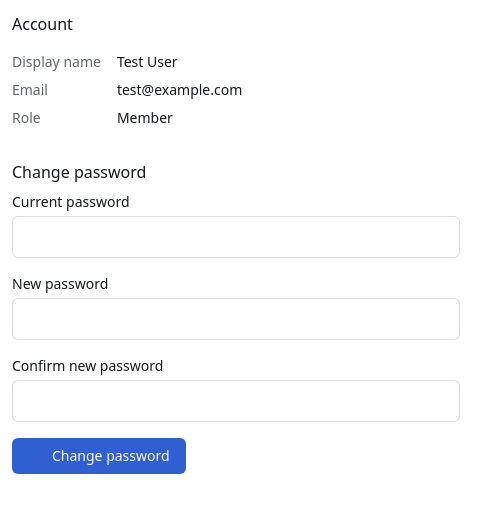
Test case: blocks submit client-side when the confirmation does not match
expect the text "Test User" is shown: met, box [117,52,178,71]
In the password field labelled "Current password": x=236, y=237 [12,216,460,258], type "old-password-123"
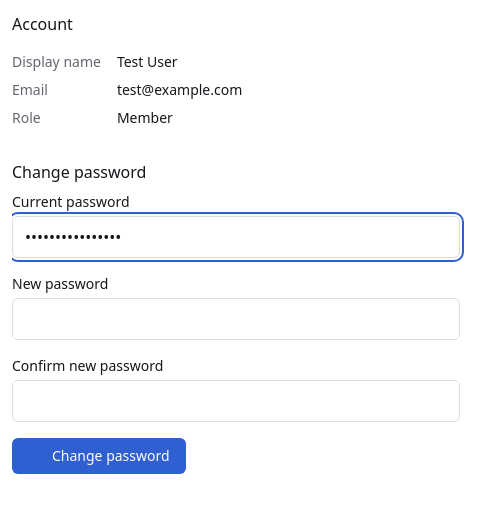
In the password field labelled "New password": x=236, y=319 [12,298,460,340], type "new-password-456"
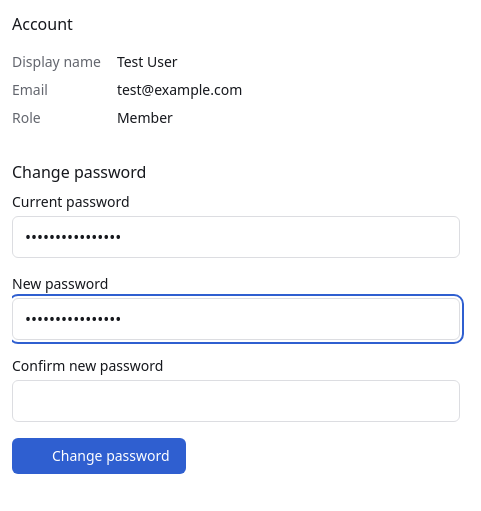
In the password field labelled "Confirm new password": x=236, y=401 [12,380,460,422], type "something-else"
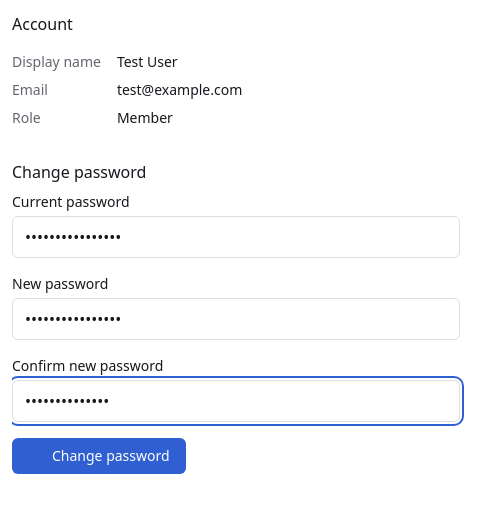
Click the button "Change password": x=99, y=456 [12,438,186,474]
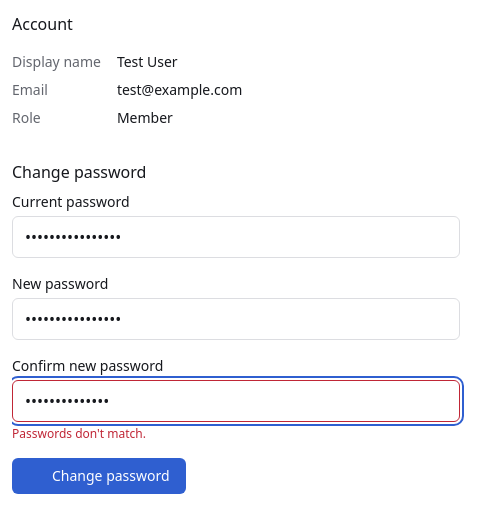
expect the text "Passwords don't match." is shown: met, box [12,425,146,442]
